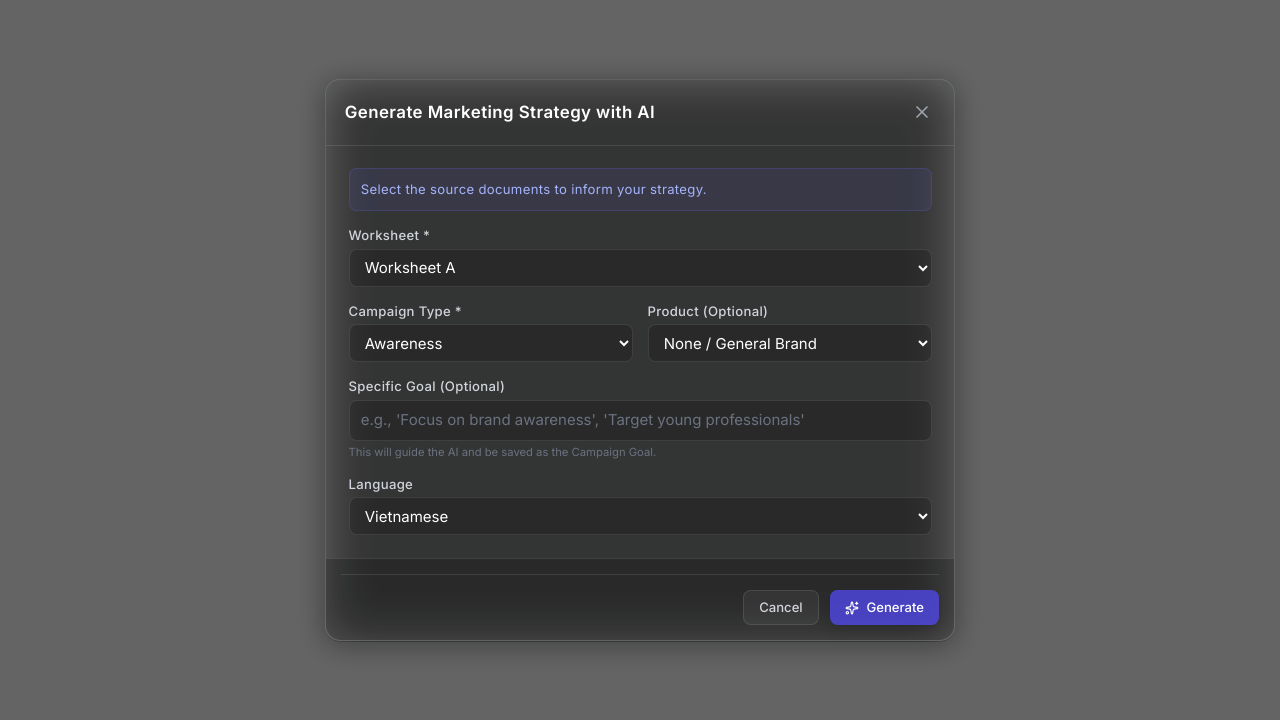
Scenario: MarketingStrategyAIModal › displays error message on failure
The image size is (1280, 720).
Select "Conversion" in the dropdown below "Campaign Type *" at [490, 343], box 348,324 -> 632,362
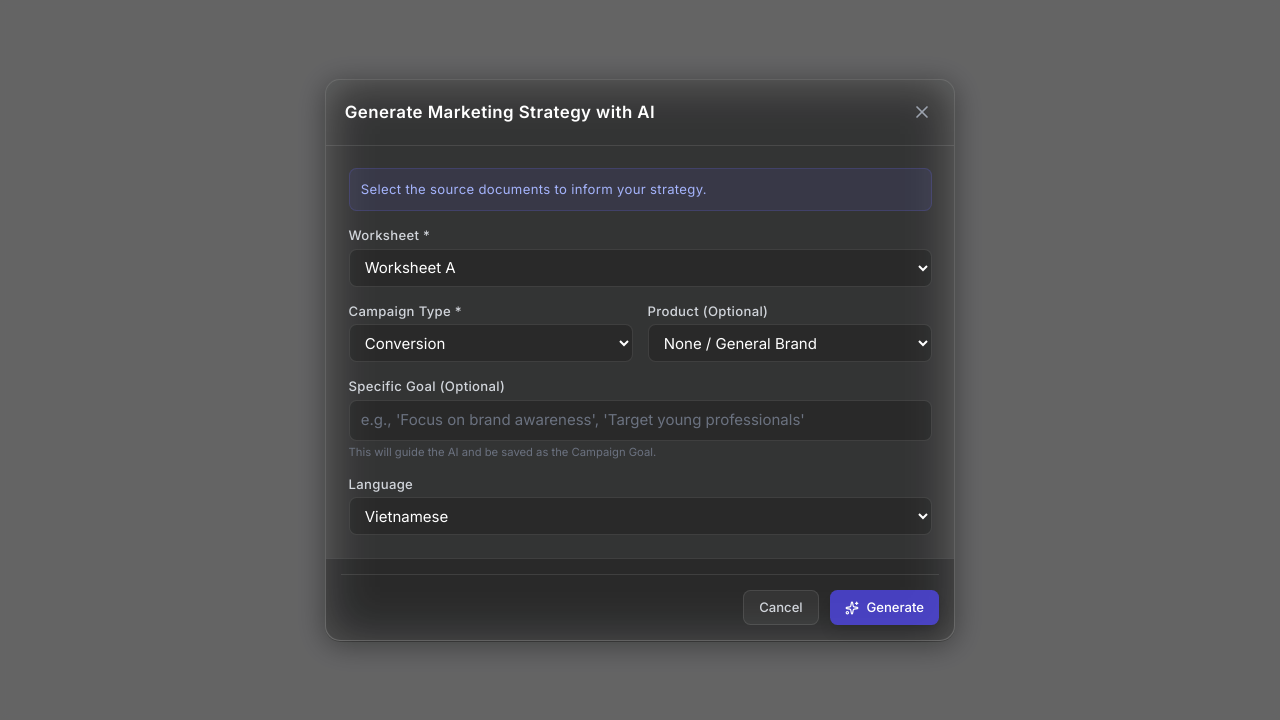
Select "Product A" in the dropdown below "Product (Optional)" at [790, 343], box 648,324 -> 932,362
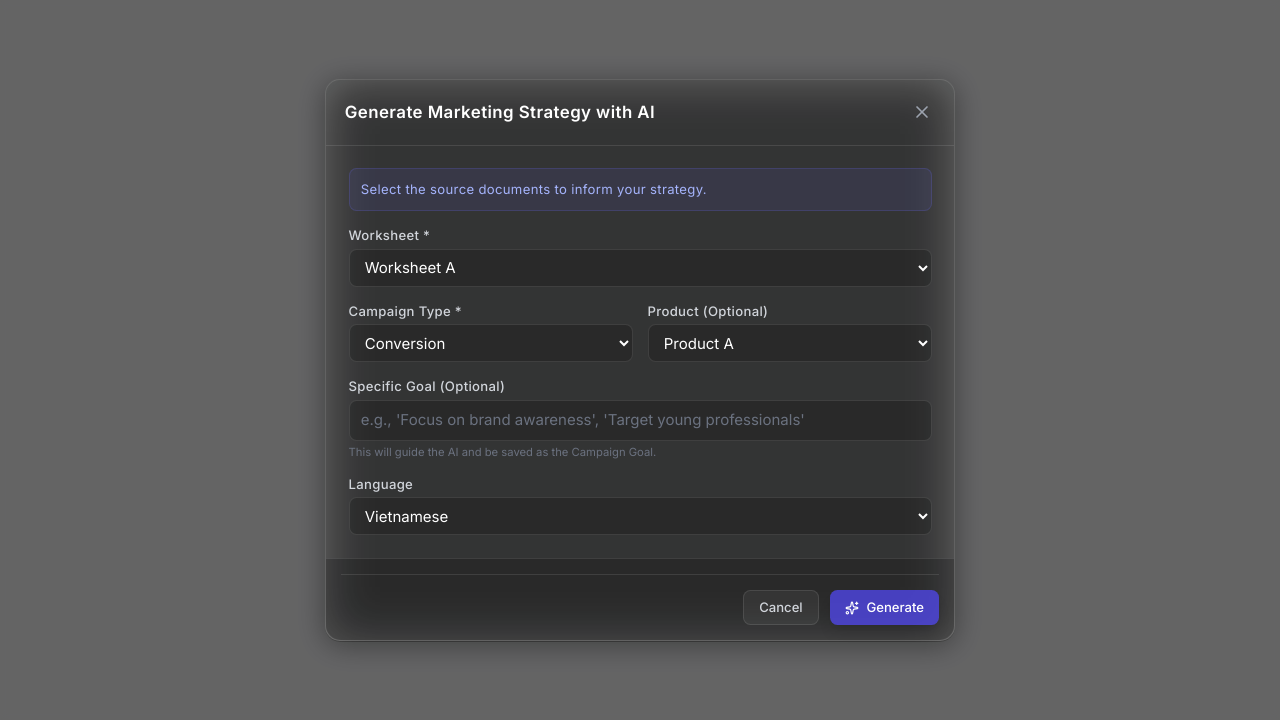
Click the button "Generate".
click(884, 608)  # box 830,590 -> 939,625
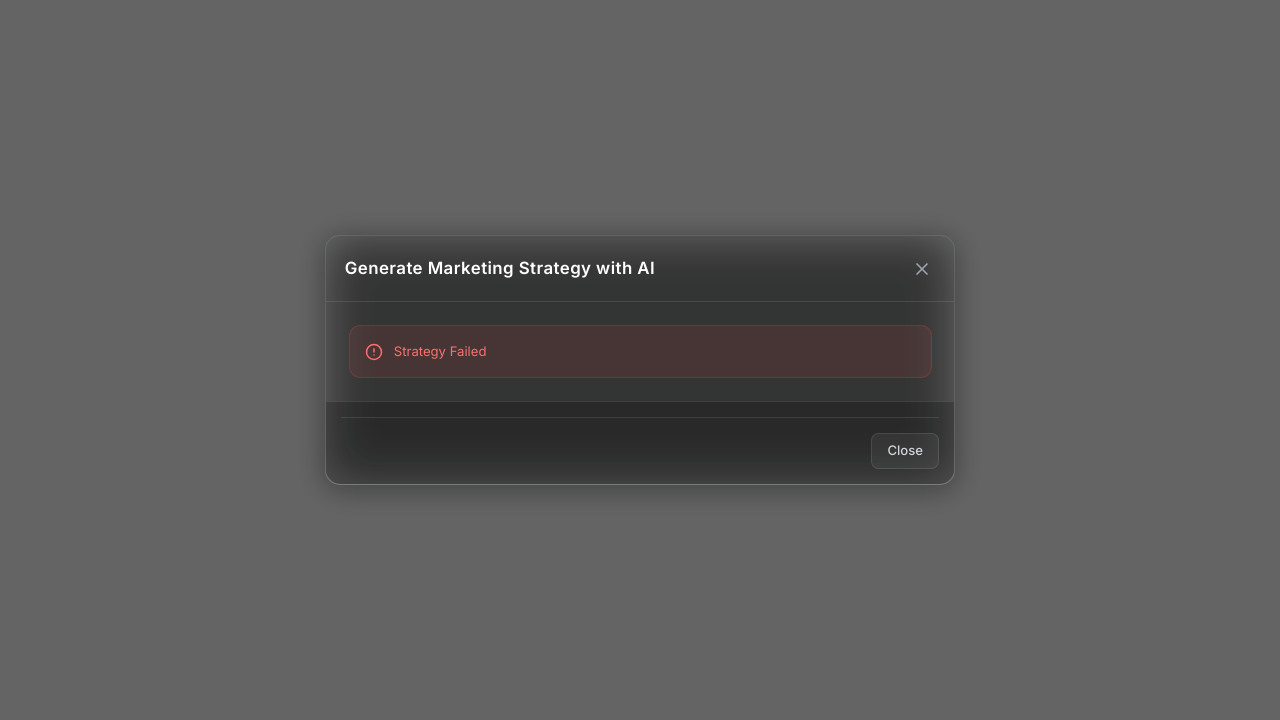
Result: the text "Strategy Failed" is shown at 394,341 -> 486,362
